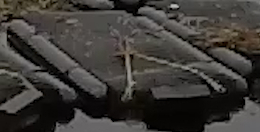bag: (7, 12, 249, 106)
